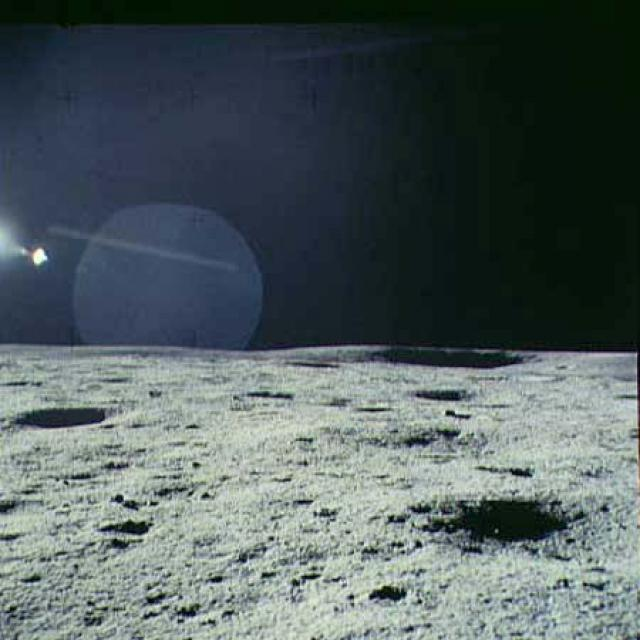crater: (411, 478, 640, 574), (4, 391, 139, 435), (397, 378, 518, 415), (356, 568, 434, 609), (158, 469, 242, 503), (98, 512, 160, 545), (227, 380, 296, 402)
